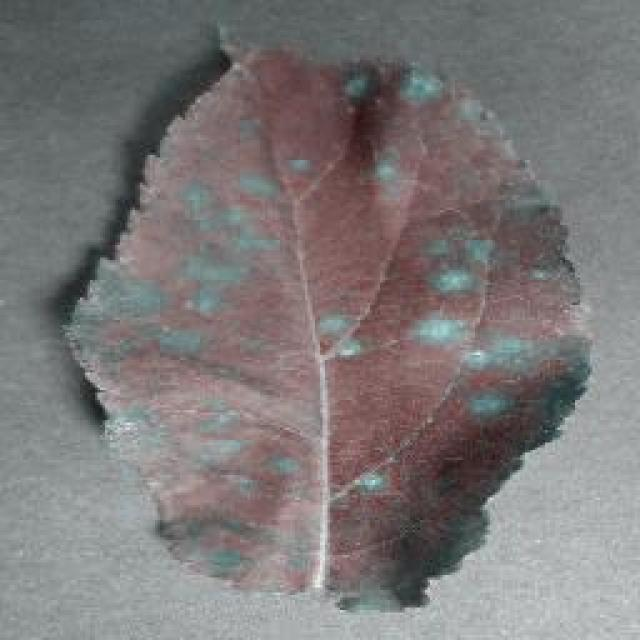apple scab disease: (60, 25, 592, 607)
